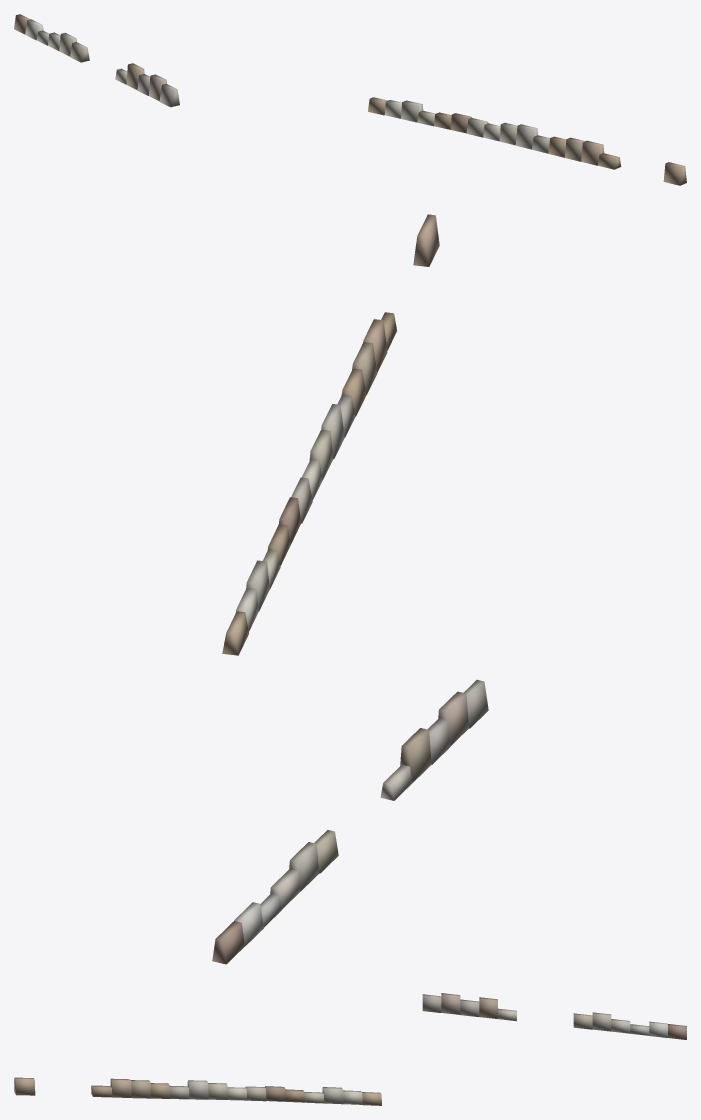
Rendered from farm_-35_-42_collision.glb.
The picture shows the model from 3 angles, top to bottom: view 1: azimuth 30°, elevation 25°; view 2: azimuth 150°, elevation 25°; view 3: azimuth 270°, elevation 25°; orthographic projection. The views are drawn at different scales.
Parts seen in each view (by area): view 1: geometry_0; view 2: geometry_0; view 3: geometry_0.
Part boxes in pixels (x1,y1,x2,y2): geometry_0: [14, 14, 686, 185]; geometry_0: [212, 214, 488, 964]; geometry_0: [14, 993, 686, 1105].
Size of the model in its own units: 21.8 by 6.34 by 53.67.
